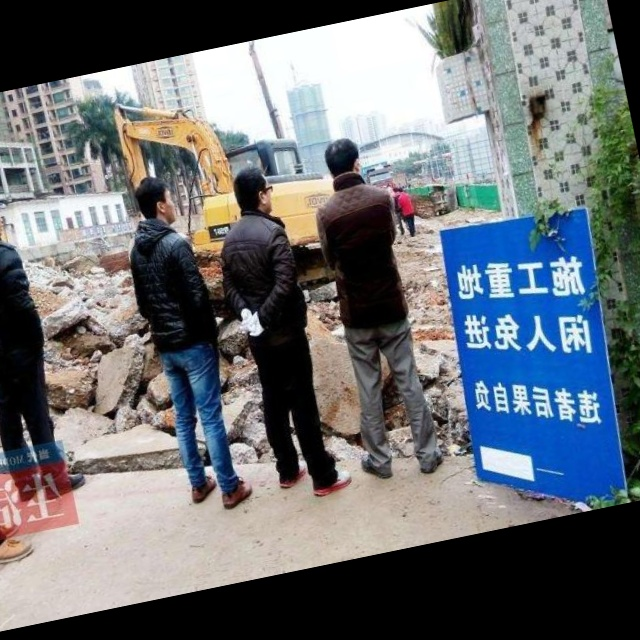Sin_Casco_Mascarrilla: (228, 161, 279, 217), (320, 132, 366, 190), (132, 171, 178, 227)
Sin_Chaleco: (309, 182, 416, 336), (119, 217, 219, 360), (210, 210, 310, 349)
